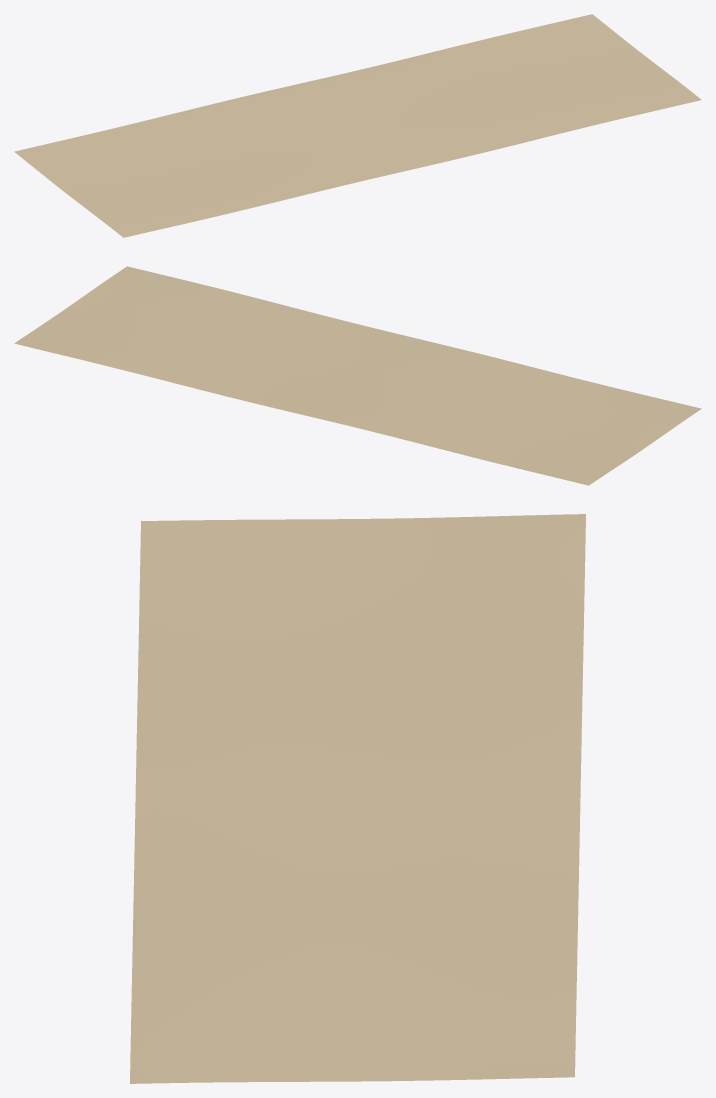
The model's file is 1_Beach_260725.glb.
3 renders of one model, top to bottom at view 1: azimuth 30°, elevation 25°; view 2: azimuth 150°, elevation 25°; view 3: azimuth 270°, elevation 25°, orthographic. The views are drawn at different scales.
Parts seen in each view (by area): view 1: Beach2; view 2: Beach2; view 3: Beach2.
Part boxes in pixels (x1,y1,x2,y2): Beach2: [14, 14, 701, 237]; Beach2: [14, 266, 701, 485]; Beach2: [130, 514, 585, 1083].
Bounding box in the file's own units: 264 × 2.41 × 90.32.
